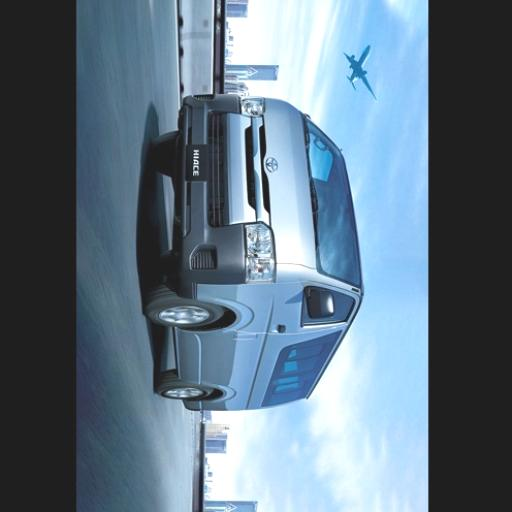van: (143, 91, 363, 413)
